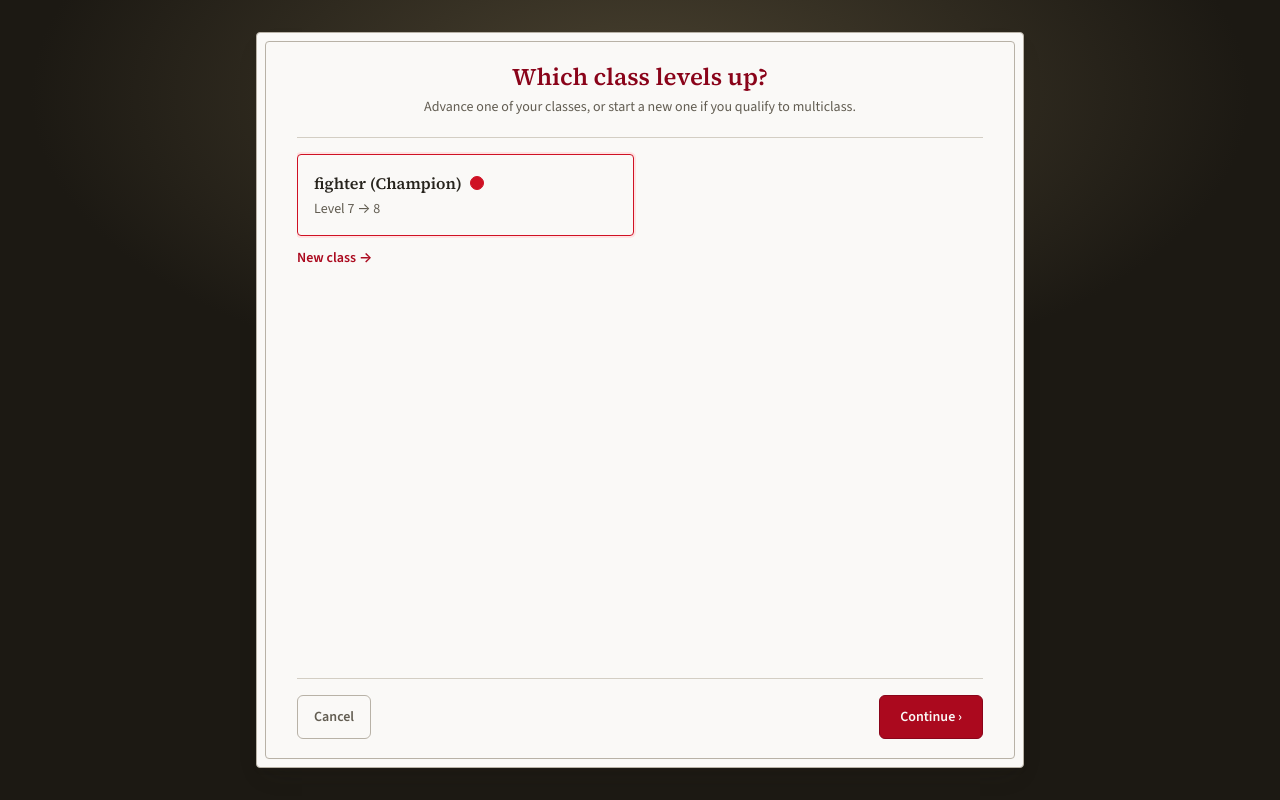
Test: LevelUpCeremony — class choice (#1170) › shows the chooser first, gating the ineligible class, before the HP step
Expected: the heading "Which class levels up?" is shown, [512,60,768,93]
Expected: the radio button labelled "fighter (Champion) Level 7 → 8" is enabled, [297,154,634,236]
Step 1. Click the button with aria-label "add a new class" → (335, 258), box [297,248,372,268]
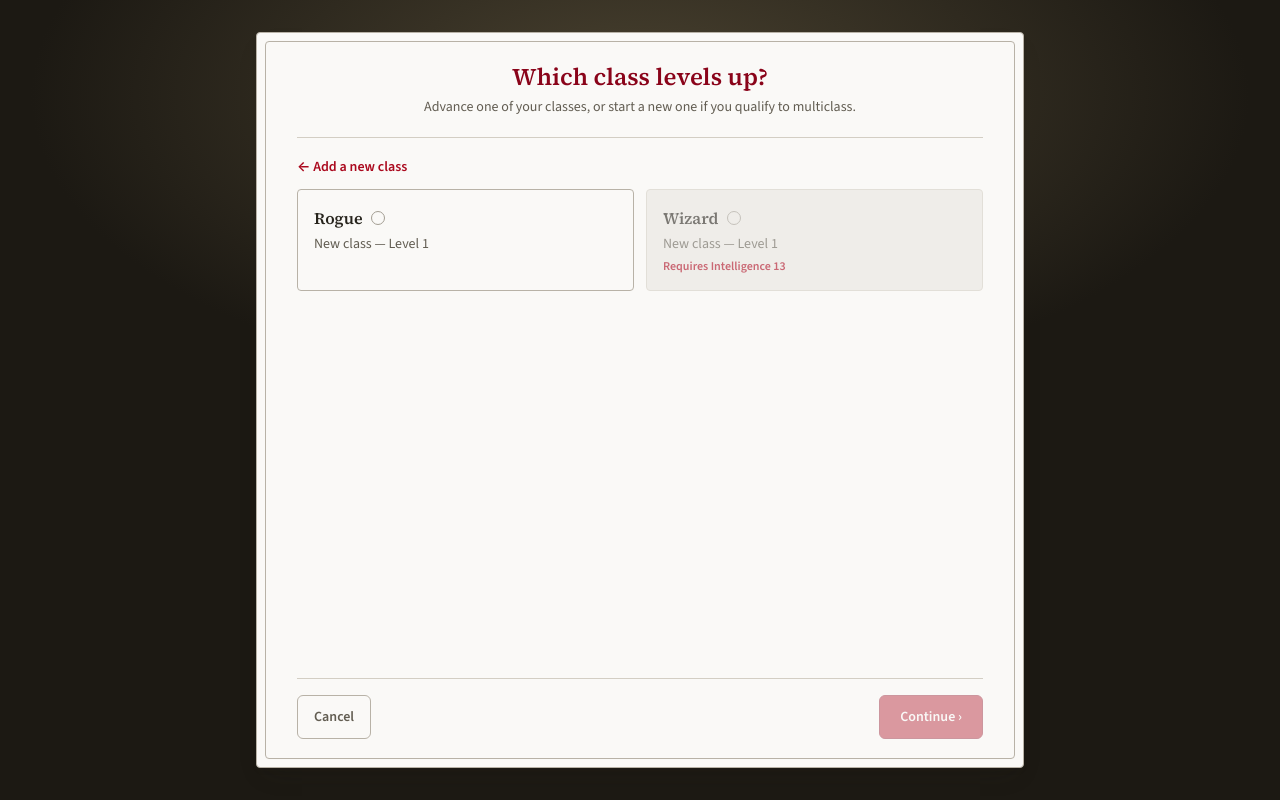
Now the radio button labelled "Rogue" is enabled, box [297,189,634,291]
Now the radio button labelled "Wizard" is disabled, box [646,189,983,291]
